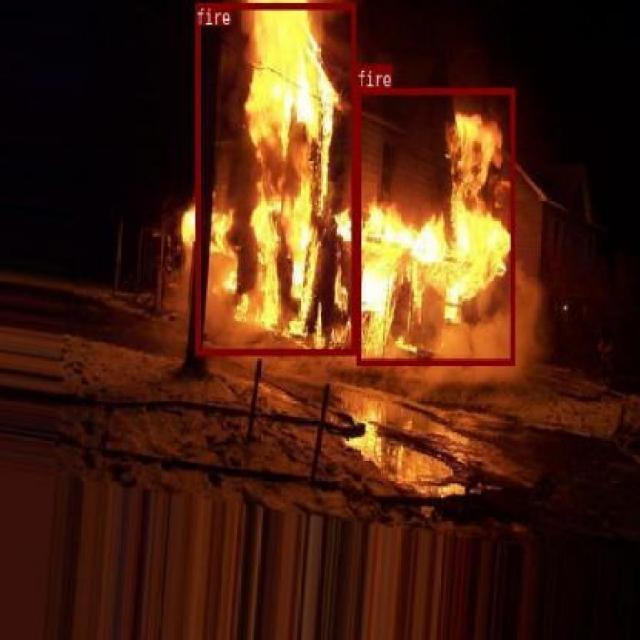fire: (194, 1, 354, 354), (356, 87, 514, 364)
